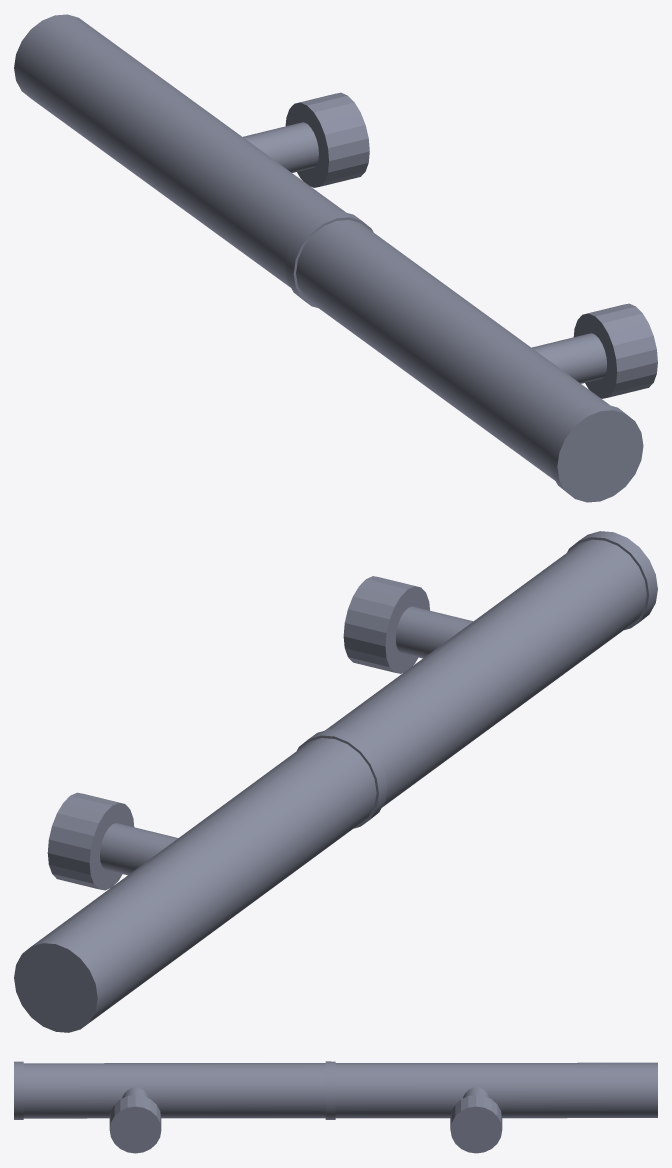
Rendered from Pipe.fbx.
The picture shows the model from 3 angles, top to bottom: view 1: azimuth 30°, elevation 25°; view 2: azimuth 150°, elevation 25°; view 3: azimuth 270°, elevation 25°; orthographic projection. The views are drawn at different scales.
Visible parts, largest first — view 1: Pipe, Wallattatchment2, WallAttatchment; view 2: Pipe, Wallattatchment2, WallAttatchment; view 3: Pipe, Wallattatchment2, WallAttatchment.
Part boxes in pixels (left/top/right/bottom): Pipe: left=14, top=14, right=643, bottom=502; Wallattatchment2: left=243, top=92, right=369, bottom=187; WallAttatchment: left=532, top=303, right=657, bottom=398; Pipe: left=14, top=531, right=657, bottom=1032; Wallattatchment2: left=47, top=792, right=178, bottom=890; WallAttatchment: left=343, top=576, right=472, bottom=673; Pipe: left=14, top=1061, right=657, bottom=1119; Wallattatchment2: left=450, top=1087, right=502, bottom=1153; WallAttatchment: left=109, top=1087, right=161, bottom=1153.
Size of the model in its own units: 5.78 by 2.74 by 30.02.
